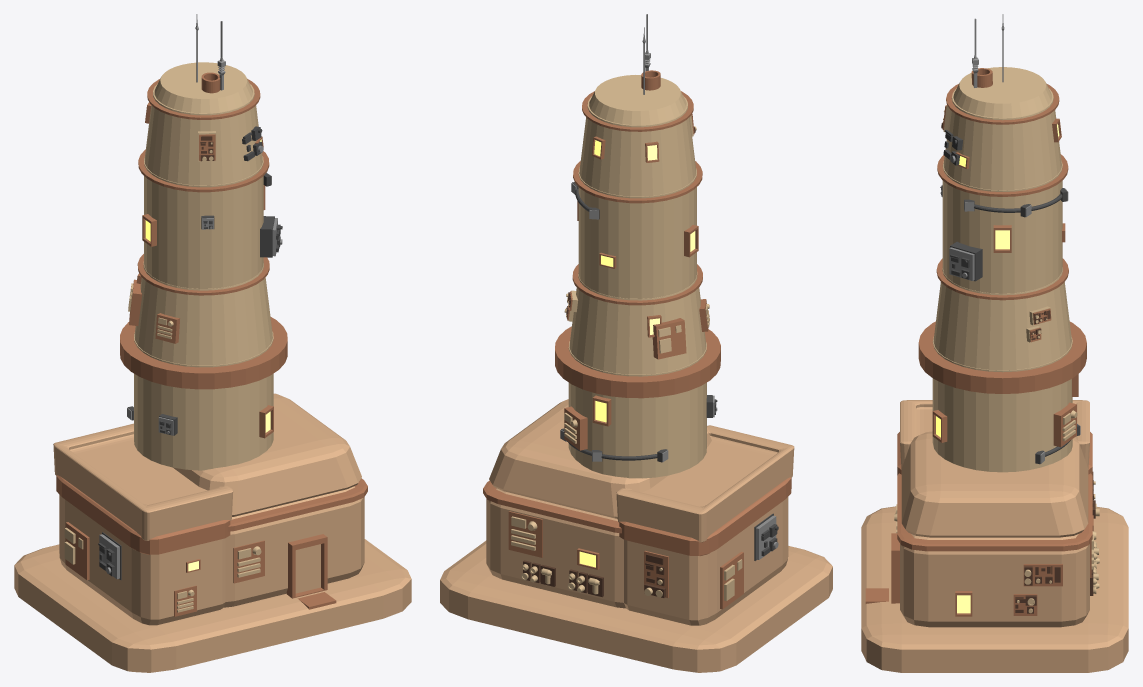
Rendered from nomad_building_38.fbx.
The picture shows the model from 3 angles, left to right: view 1: azimuth 30°, elevation 25°; view 2: azimuth 150°, elevation 25°; view 3: azimuth 270°, elevation 25°; orthographic projection.
Visible parts, largest first — view 1: B38_M_Foundation_rectangular, B38_T_Drum2, B38_M_R01_roof_simple, B38_T_Drum0, B38_M_R00_square_roof_defualt, B38_M_Blk01_rectangular_unit, B38_T_Drum1, B38_M_Blk00_base, B38_T_Drum3, B38_T_Ring00_TowerTrim_BandWide, B38_T_Crown_TowerBody_RoofCap, B38_M_B01_Band_square_diameter_thich (+8 smaller); view 2: B38_M_Foundation_rectangular, B38_T_Drum2, B38_M_R01_roof_simple, B38_T_Drum0, B38_M_Blk01_rectangular_unit, B38_M_R00_square_roof_defualt, B38_T_Drum1, B38_M_Blk00_base, B38_T_Drum3, B38_T_Ring00_TowerTrim_BandWide, B38_T_Crown_TowerBody_RoofCap, B38_M_B01_Band_square_diameter_thich (+8 smaller); view 3: B38_M_Foundation_rectangular, B38_M_R00_square_roof_defualt, B38_M_Blk00_base, B38_T_Drum0, B38_T_Drum2, B38_T_Drum1, B38_T_Drum3, B38_T_Ring00_TowerTrim_BandWide, B38_T_Crown_TowerBody_RoofCap, B38_M_B00_Band_square_diameter_default, B38_M_R01_roof_simple, B38_T_Ring20_TowerTrim_BandThin (+8 smaller).
Part boxes in pixels (x1,y1,x2,y2): B38_M_Foundation_rectangular: [14, 539, 411, 672]; B38_T_Drum2: [144, 156, 263, 288]; B38_M_R01_roof_simple: [53, 423, 233, 540]; B38_T_Drum0: [134, 331, 273, 470]; B38_M_R00_square_roof_defualt: [173, 393, 361, 516]; B38_M_Blk01_rectangular_unit: [59, 495, 225, 625]; B38_T_Drum1: [134, 261, 272, 365]; B38_M_Blk00_base: [224, 486, 364, 607]; B38_T_Drum3: [144, 83, 262, 185]; B38_T_Ring00_TowerTrim_BandWide: [120, 317, 287, 389]; B38_T_Crown_TowerBody_RoofCap: [154, 62, 252, 113]; B38_M_B01_Band_square_diameter_thich: [56, 475, 230, 554]; B38_M_Foundation_rectangular: [440, 540, 832, 672]; B38_T_Drum2: [578, 167, 696, 298]; B38_M_R01_roof_simple: [616, 425, 794, 542]; B38_T_Drum0: [568, 341, 706, 478]; B38_M_Blk01_rectangular_unit: [624, 497, 788, 625]; B38_M_R00_square_roof_defualt: [489, 399, 711, 518]; B38_T_Drum1: [569, 272, 706, 374]; B38_M_Blk00_base: [486, 488, 625, 608]; B38_T_Drum3: [579, 95, 696, 196]; B38_T_Ring00_TowerTrim_BandWide: [555, 326, 720, 398]; B38_T_Crown_TowerBody_RoofCap: [589, 75, 686, 125]; B38_M_B01_Band_square_diameter_thich: [619, 477, 791, 555]; B38_M_Foundation_rectangular: [861, 506, 1128, 672]; B38_M_R00_square_roof_defualt: [901, 431, 1088, 537]; B38_M_Blk00_base: [900, 534, 1089, 627]; B38_T_Drum0: [932, 337, 1072, 472]; B38_T_Drum2: [942, 161, 1062, 293]; B38_T_Drum1: [933, 267, 1071, 370]; B38_T_Drum3: [943, 88, 1061, 190]; B38_T_Ring00_TowerTrim_BandWide: [918, 321, 1086, 393]; B38_T_Crown_TowerBody_RoofCap: [953, 67, 1051, 117]; B38_M_B00_Band_square_diameter_default: [897, 473, 1092, 551]; B38_M_R01_roof_simple: [900, 400, 1089, 469]; B38_T_Ring20_TowerTrim_BandThin: [937, 154, 1068, 196].
Size of the model in its own units: 423 by 801 by 331.
